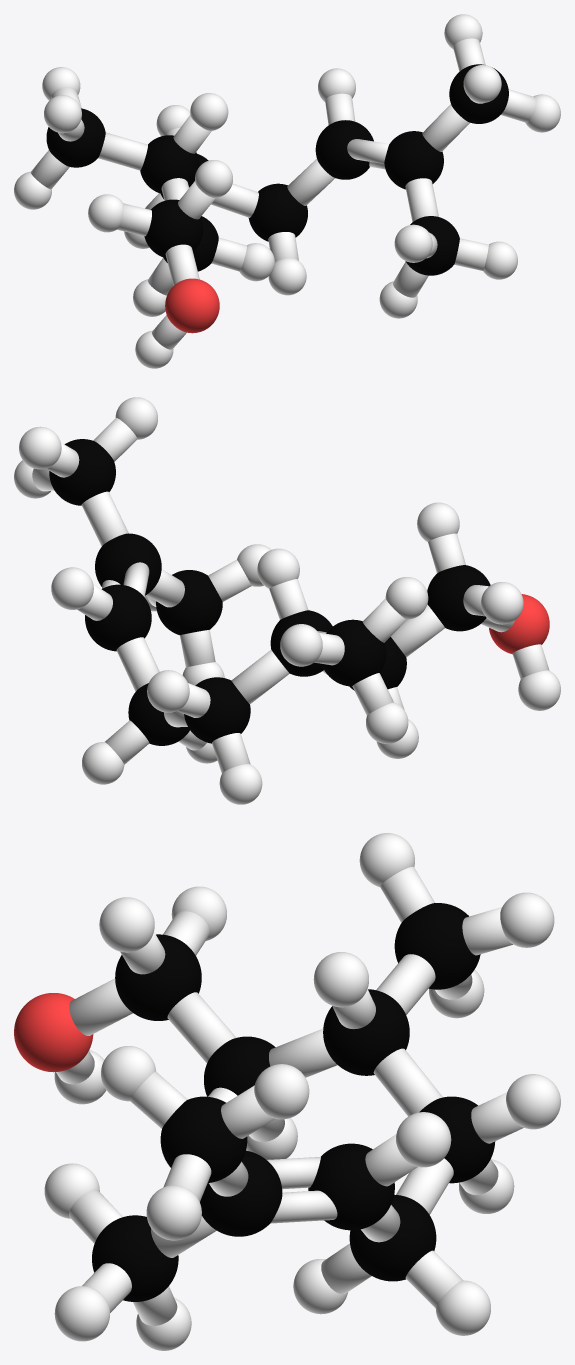
3 views of the same model, one above another, from view 1: azimuth 30°, elevation 25°; view 2: azimuth 150°, elevation 25°; view 3: azimuth 270°, elevation 25° (orthographic). The views are drawn at different scales.
Visible parts, largest first — view 1: molecule; view 2: molecule; view 3: molecule.
Boxes of the visible parts, box(x1,y1,x2,y2) form: molecule: box(14, 14, 560, 368); molecule: box(14, 397, 560, 804); molecule: box(14, 833, 560, 1350).
Bounding box in the file's own units: 8.35 × 4.31 × 5.93.
